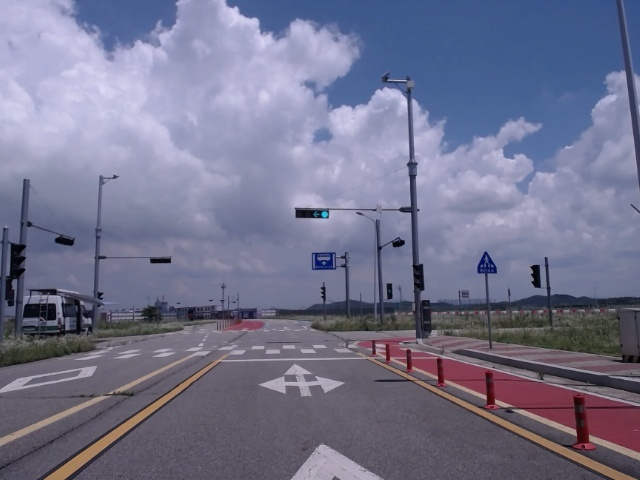all_green_4: (297, 207, 330, 217)
